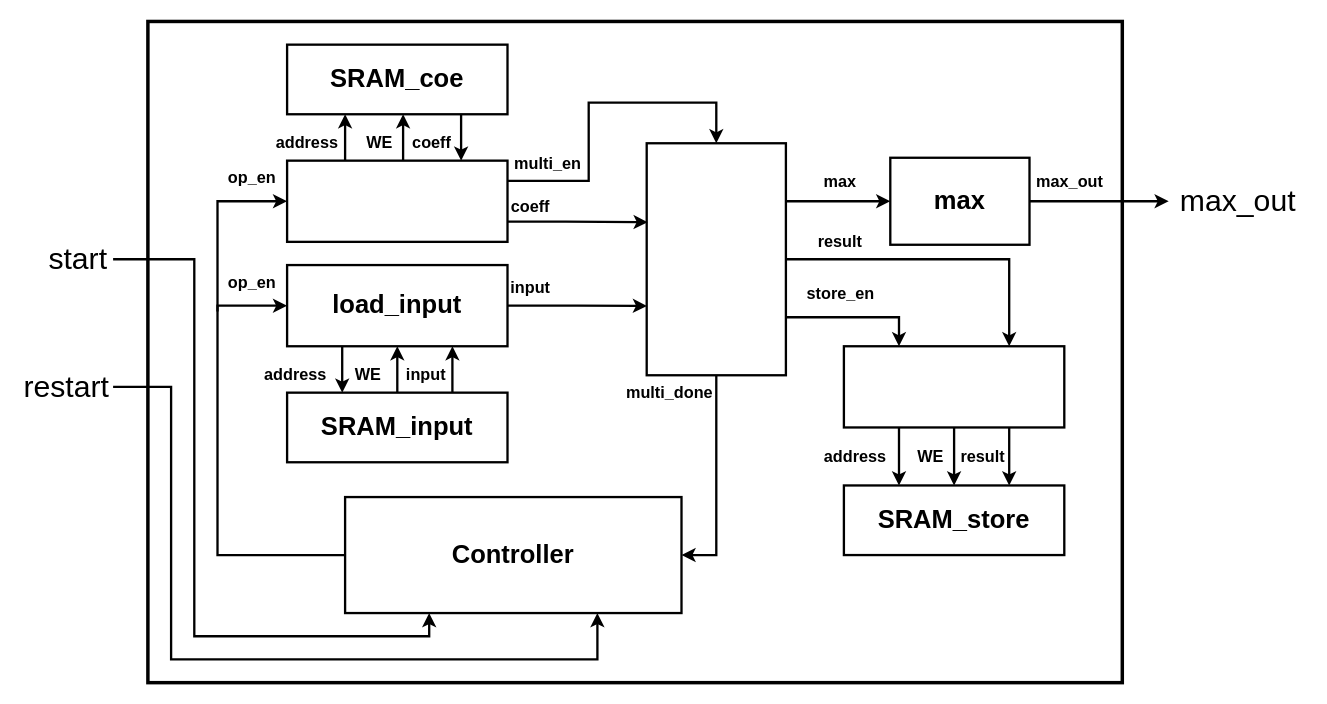
This 1327x704 diagram has some shape labels left out. Here are the shapes that lost their labels. From the top down, the box of each, then its label:
(285, 159, 508, 242): load_coeff
(645, 142, 786, 376): multiply
(842, 345, 1065, 428): store
